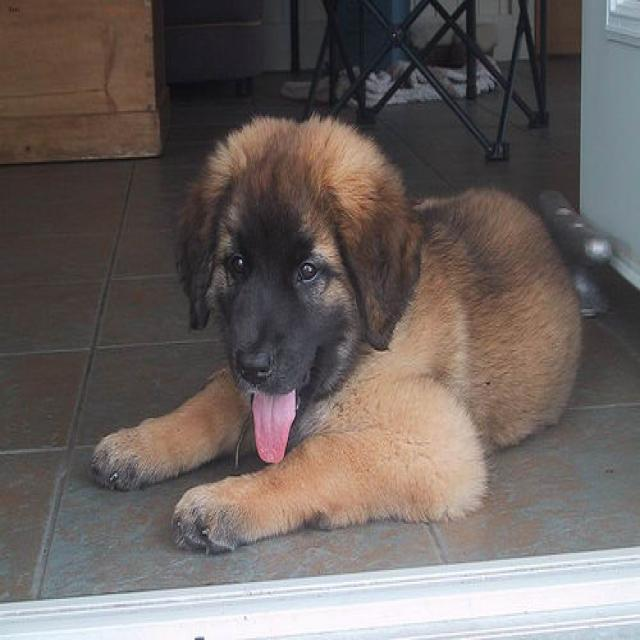dog-leonberger: (81, 104, 593, 565)
